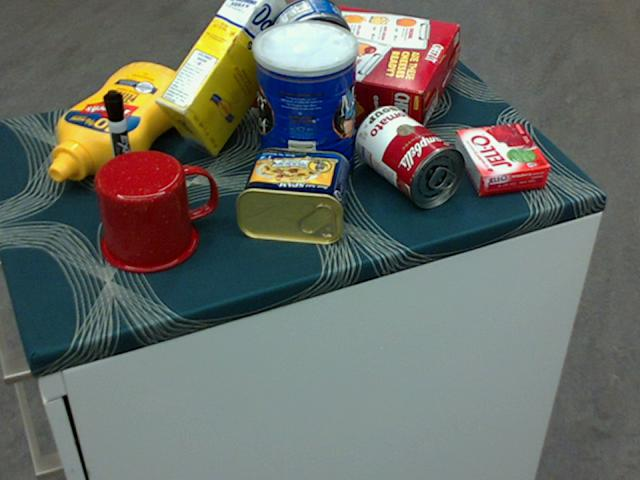cracker_box: (239, 0, 457, 139)
gelatin_box: (452, 123, 549, 194)
large_marker: (101, 91, 139, 201)
master_chef_can: (252, 20, 358, 191)
mug: (95, 149, 217, 273)
mustard_bottle: (48, 63, 193, 181)
potted_meat_can: (235, 147, 348, 243)
sugar_box: (154, 0, 299, 158)
tomato_soup_can: (354, 104, 465, 207)
tuna_fish_can: (267, 0, 351, 79)
